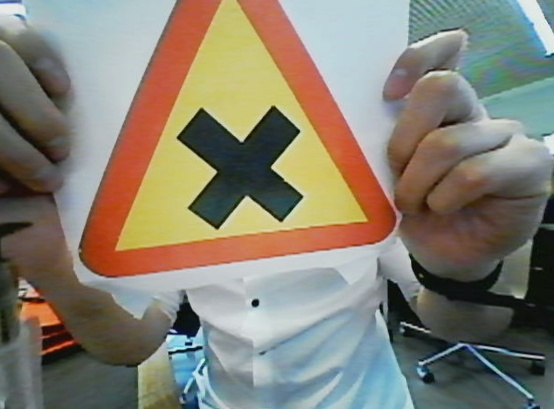junction: (80, 1, 397, 277)
